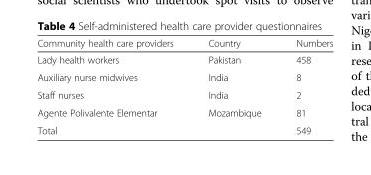table: (36, 37, 332, 135)
table column: (36, 37, 190, 135), (190, 37, 278, 135), (278, 37, 332, 135)
table column header: (36, 37, 332, 50)
table row: (36, 50, 332, 68), (36, 85, 332, 103), (36, 103, 332, 121), (36, 68, 332, 85), (36, 121, 332, 135), (36, 37, 332, 50)
table spanning cell: (36, 121, 278, 135)
